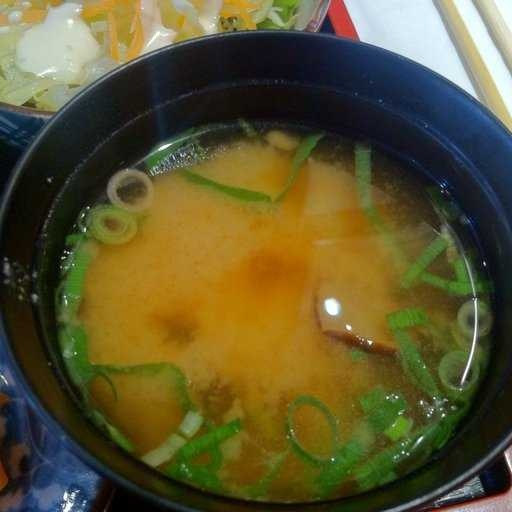soup: (60, 106, 478, 478)
